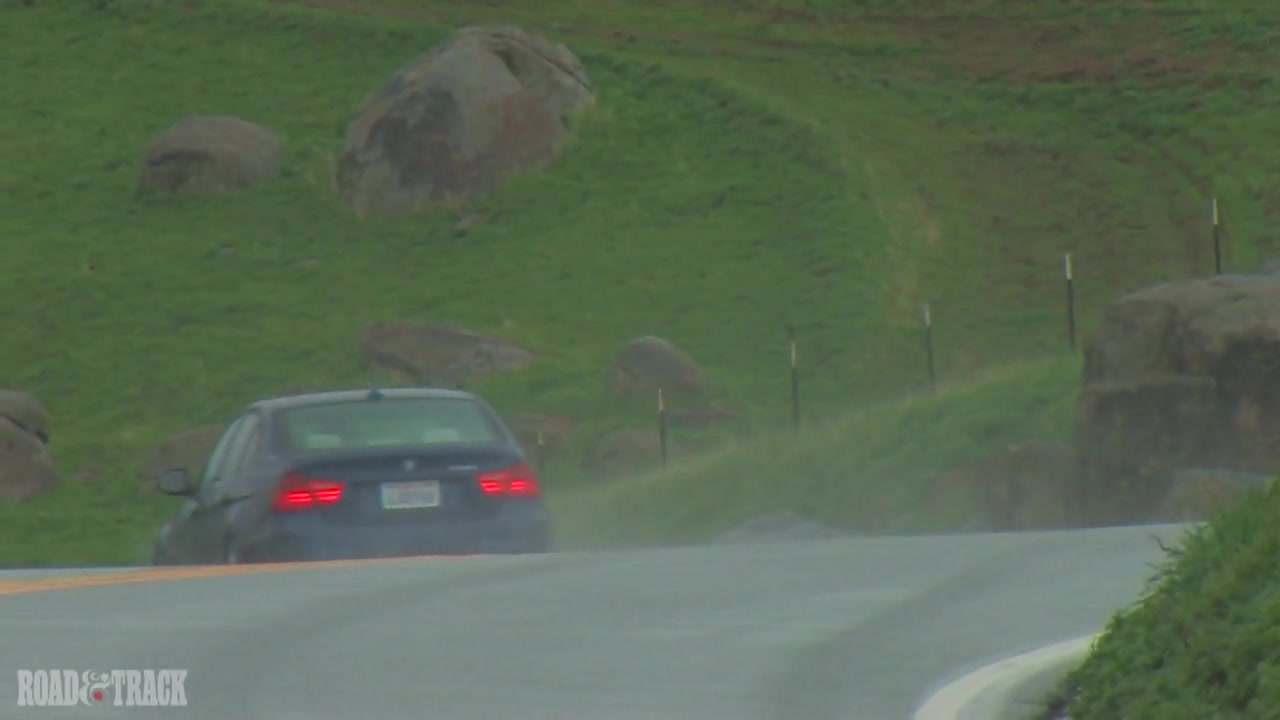car: (149, 389, 555, 564)
